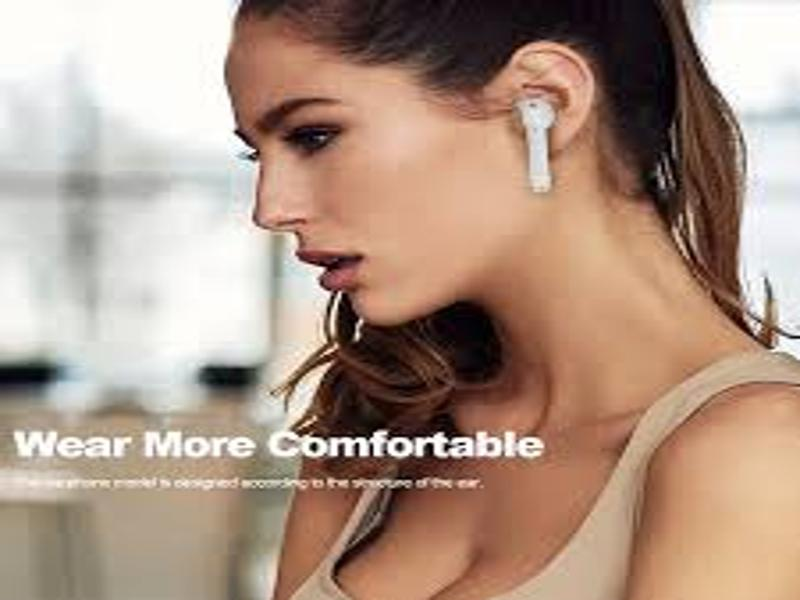headphone: (511, 97, 569, 195)
